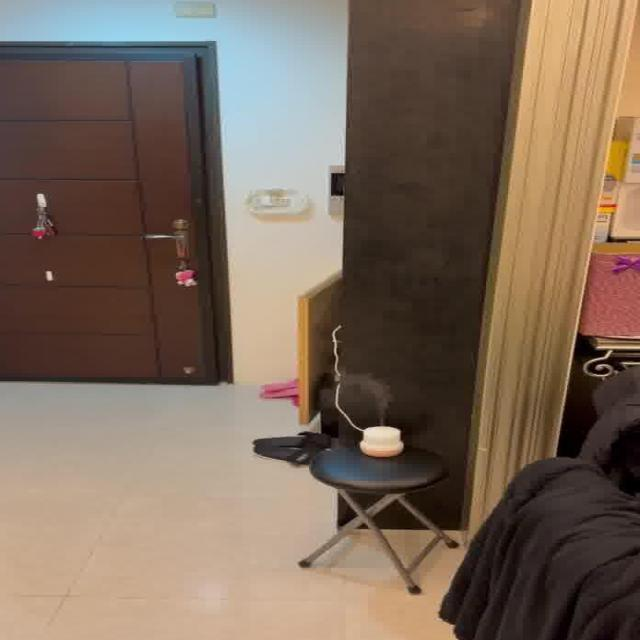fire: (346, 370, 396, 412)
